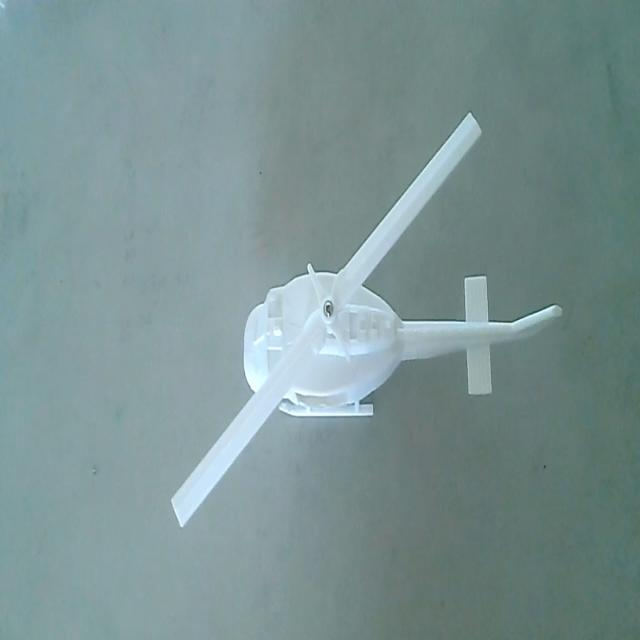Helicopter: (162, 107, 562, 561)
